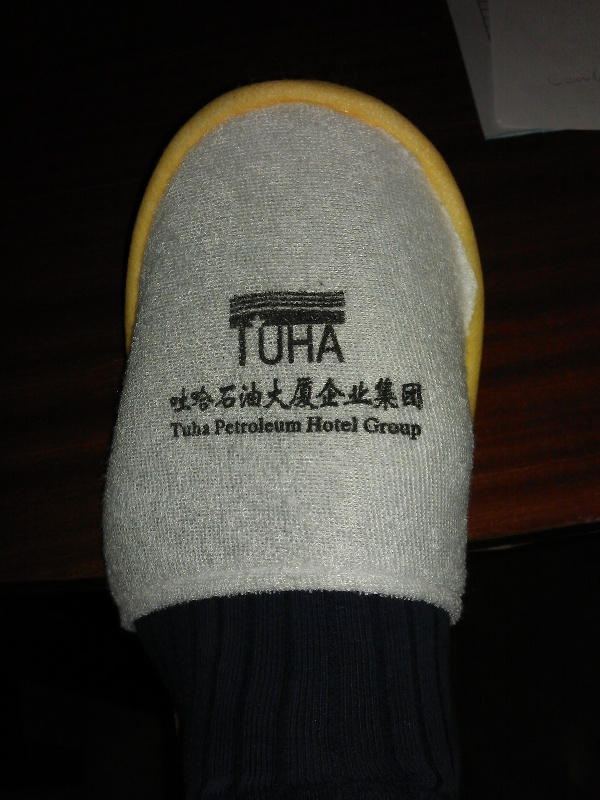text: (241, 323, 256, 369), (257, 323, 272, 369), (273, 323, 288, 369), (289, 323, 304, 369), (305, 323, 320, 369), (321, 323, 336, 369), (177, 375, 192, 416), (193, 375, 208, 416), (209, 375, 224, 416), (225, 375, 240, 416), (241, 375, 256, 416), (257, 375, 272, 416), (273, 375, 288, 416), (289, 375, 304, 416), (305, 375, 320, 416), (321, 375, 336, 416), (337, 375, 352, 416), (353, 375, 368, 416), (369, 375, 384, 416), (385, 375, 400, 416), (401, 375, 416, 416), (337, 323, 346, 369), (369, 416, 384, 443), (385, 416, 400, 443), (401, 416, 416, 443), (417, 375, 426, 416), (168, 375, 176, 416), (177, 419, 192, 440), (193, 419, 208, 440), (225, 416, 240, 436), (241, 416, 256, 436), (257, 416, 272, 436), (273, 416, 288, 436), (289, 416, 303, 436), (234, 323, 240, 369), (305, 416, 320, 434), (321, 416, 336, 434), (337, 416, 352, 434), (213, 416, 224, 436), (167, 419, 176, 440), (417, 416, 423, 443), (353, 416, 359, 434), (364, 416, 368, 443), (209, 419, 212, 440)
